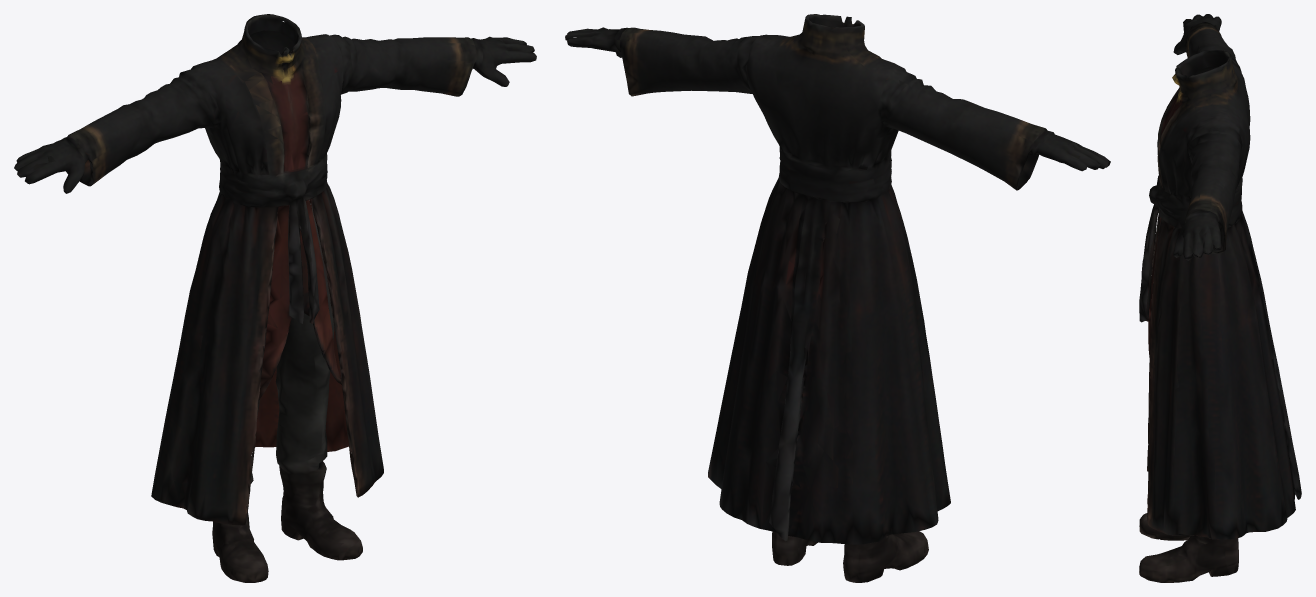
Rendered from emberbound-robe-20k-v1.glb.
3 renders of one model, left to right at view 1: azimuth 30°, elevation 25°; view 2: azimuth 150°, elevation 25°; view 3: azimuth 270°, elevation 25°, orthographic. The views are drawn at different scales.
Parts seen in each view (by area): view 1: emberbound-robe-20k-pre; view 2: emberbound-robe-20k-pre; view 3: emberbound-robe-20k-pre.
Part boxes in pixels (x1,y1,x2,y2): emberbound-robe-20k-pre: (14,14,536,582); emberbound-robe-20k-pre: (565,14,1110,582); emberbound-robe-20k-pre: (1139,14,1301,582).
Size of the model in its own units: 1 by 0.9698 by 0.2872.
Materials: 1 (1 with a texture image).
